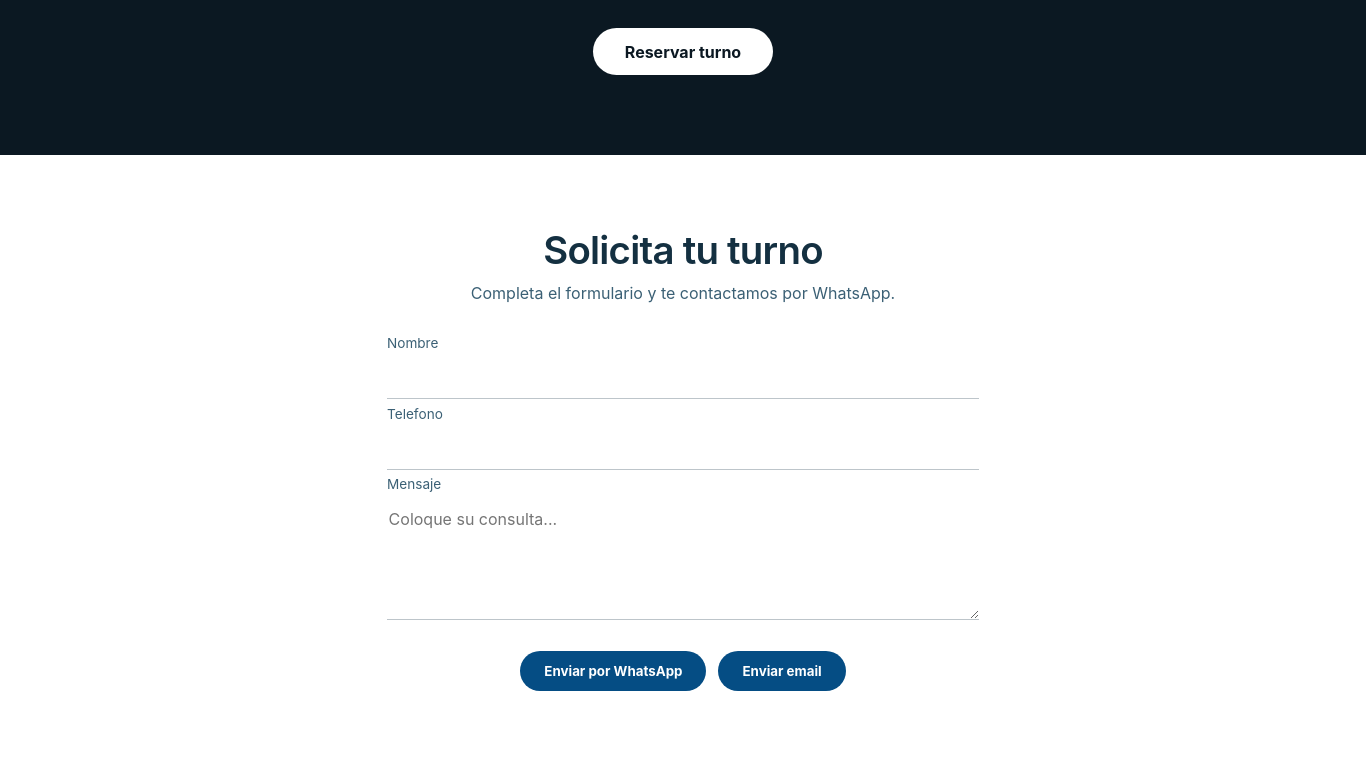
Test case: ContactForm › shows validation errors when submitted empty
The image size is (1366, 763).
(page scrolled)
What coordinates should you click on to do the following:
click the button "Enviar por WhatsApp"
I would click on:
 (613, 671)
Its box is x1=520 y1=651 x2=706 y2=691.
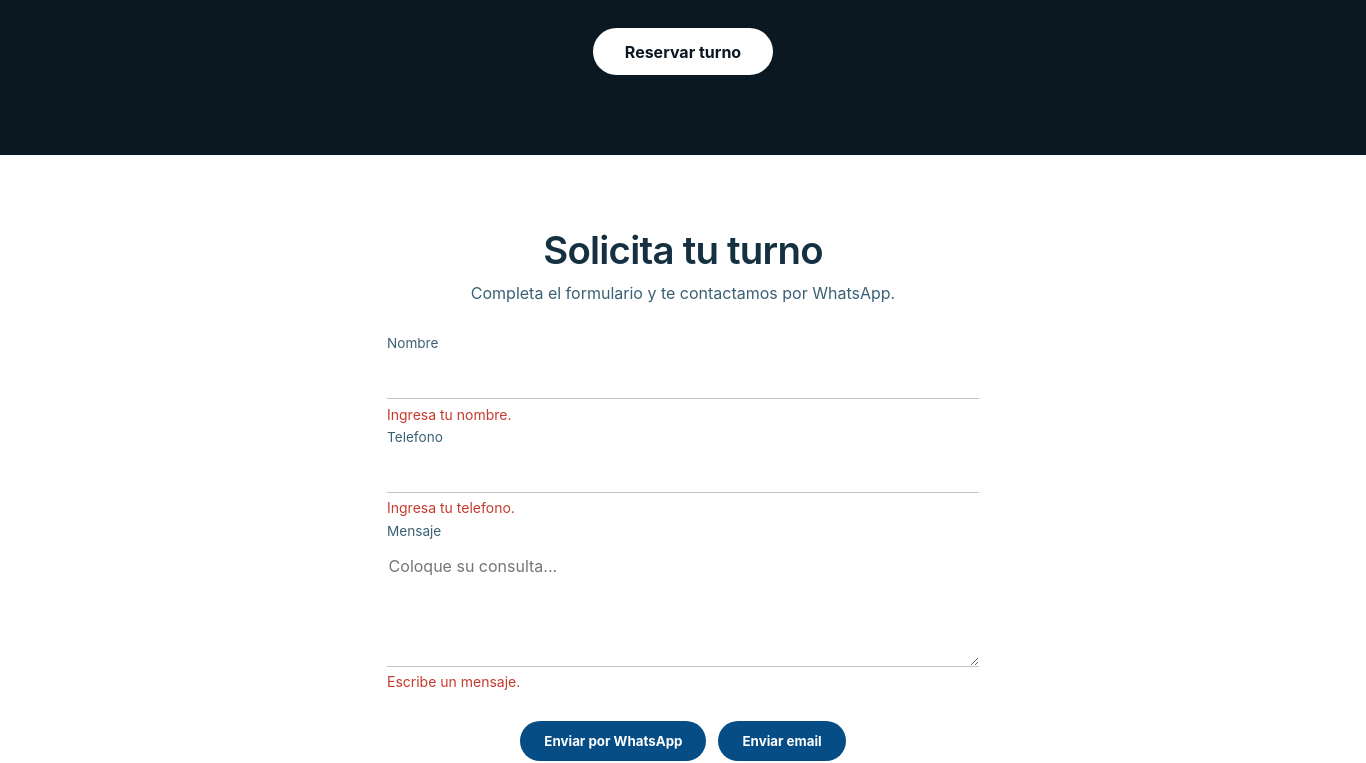
Expected: the text "Ingresa tu nombre." is shown, x1=387 y1=406 x2=512 y2=422
Expected: the text "Ingresa tu telefono." is shown, x1=387 y1=500 x2=515 y2=516
Expected: the text "Escribe un mensaje." is shown, x1=387 y1=673 x2=520 y2=690
